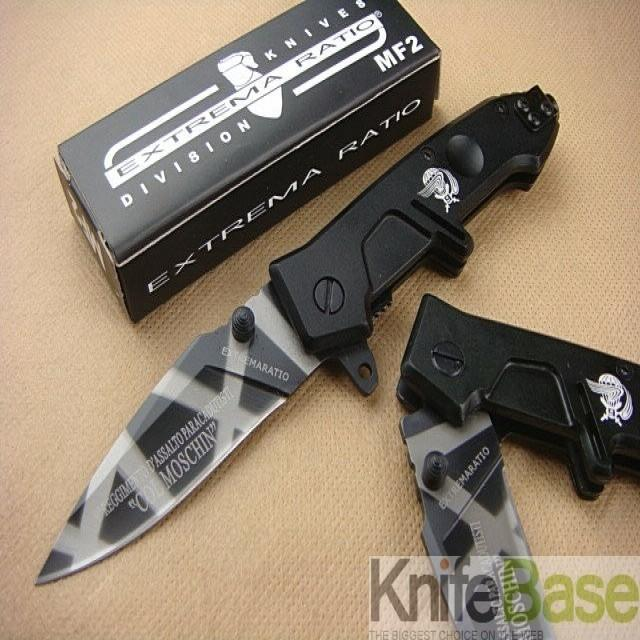knife: (24, 78, 566, 589)
